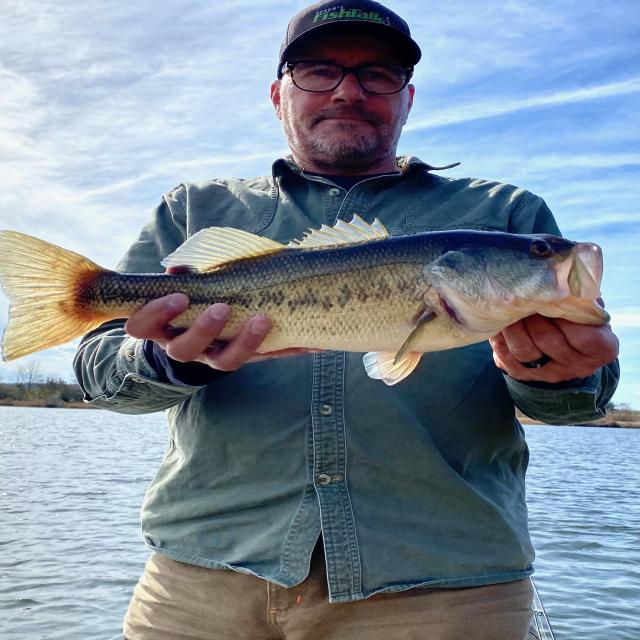Bass - Largemouth: (1, 230, 608, 382)
